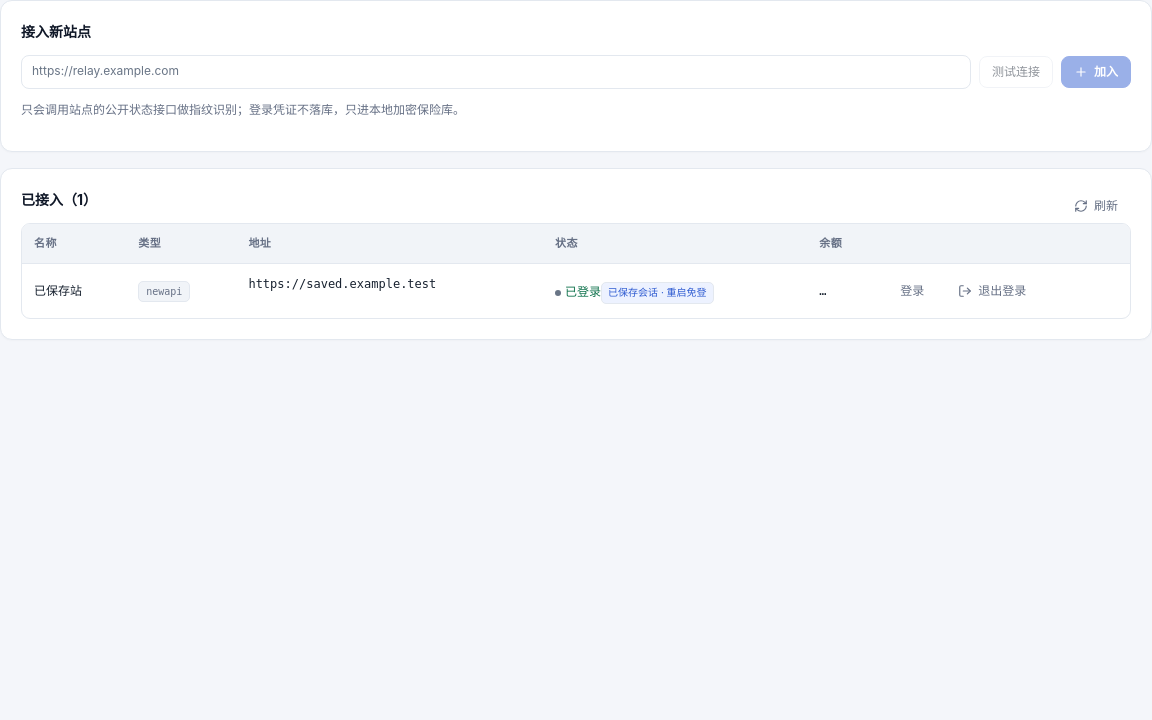
Sites 会话持久化徽标与退出登录（M38-S1） › ③ 取消确认不发请求
The image size is (1152, 720).
Click the button "退出登录".
click(992, 291)  # box [945,275,1039,307]
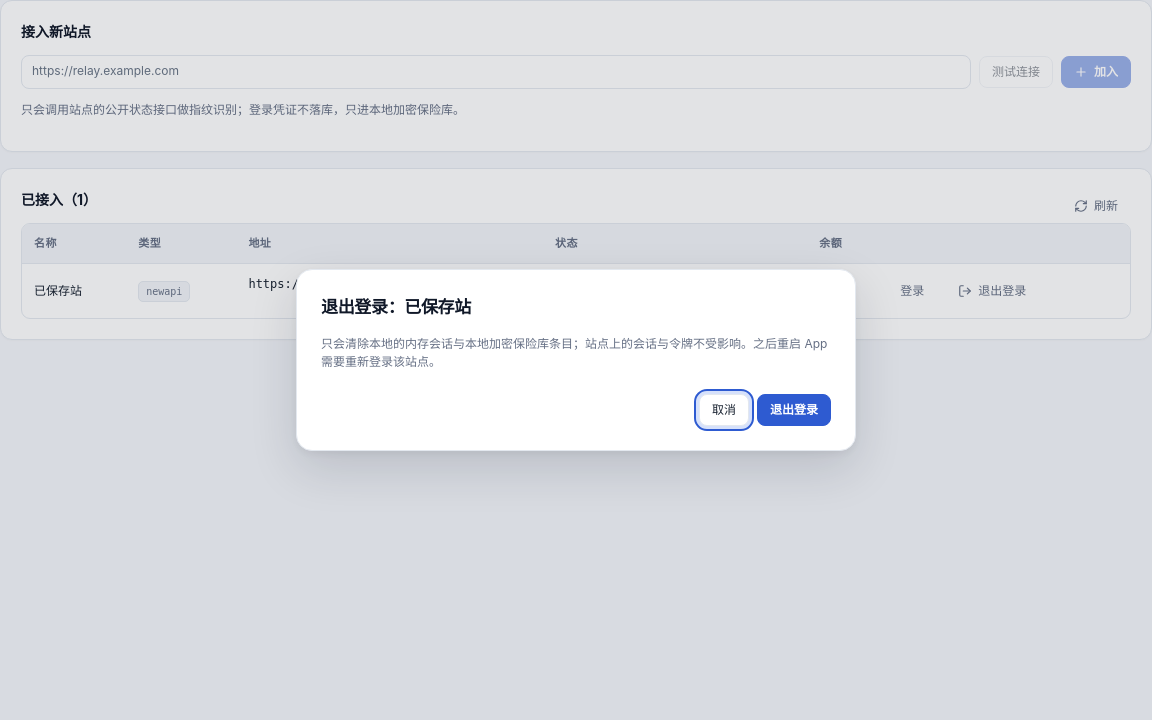
Click the button "取消".
click(724, 410)  # box [699,394,749,426]
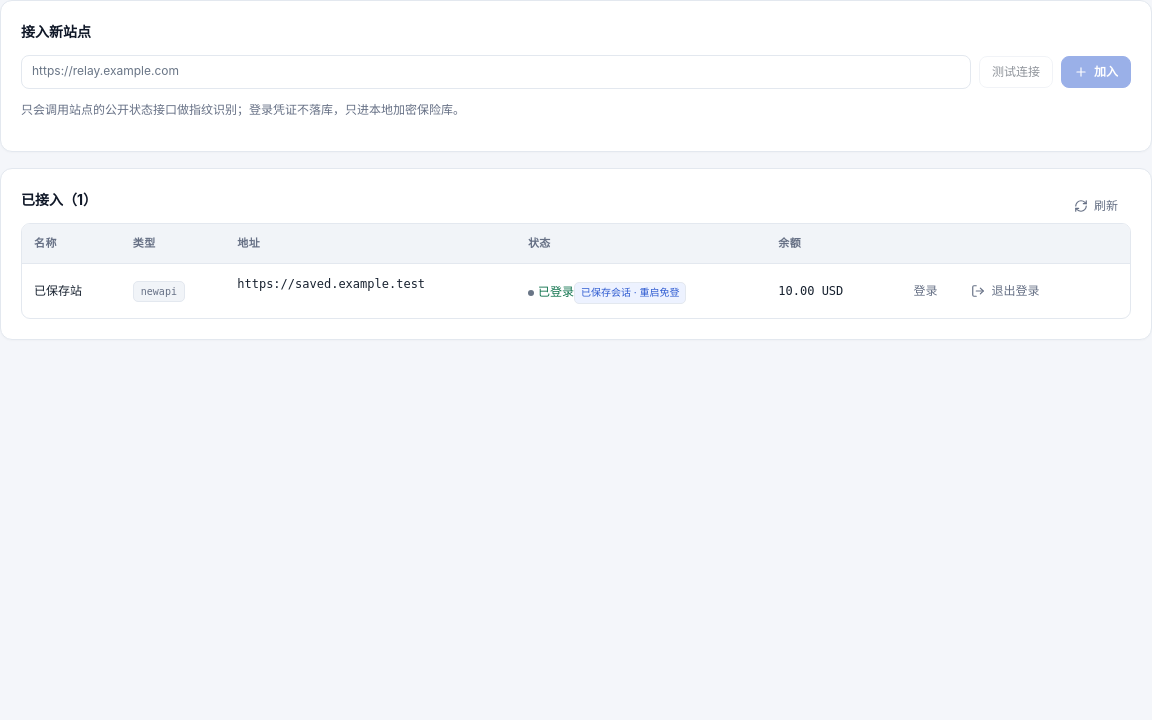
Check: the dialog is gone
